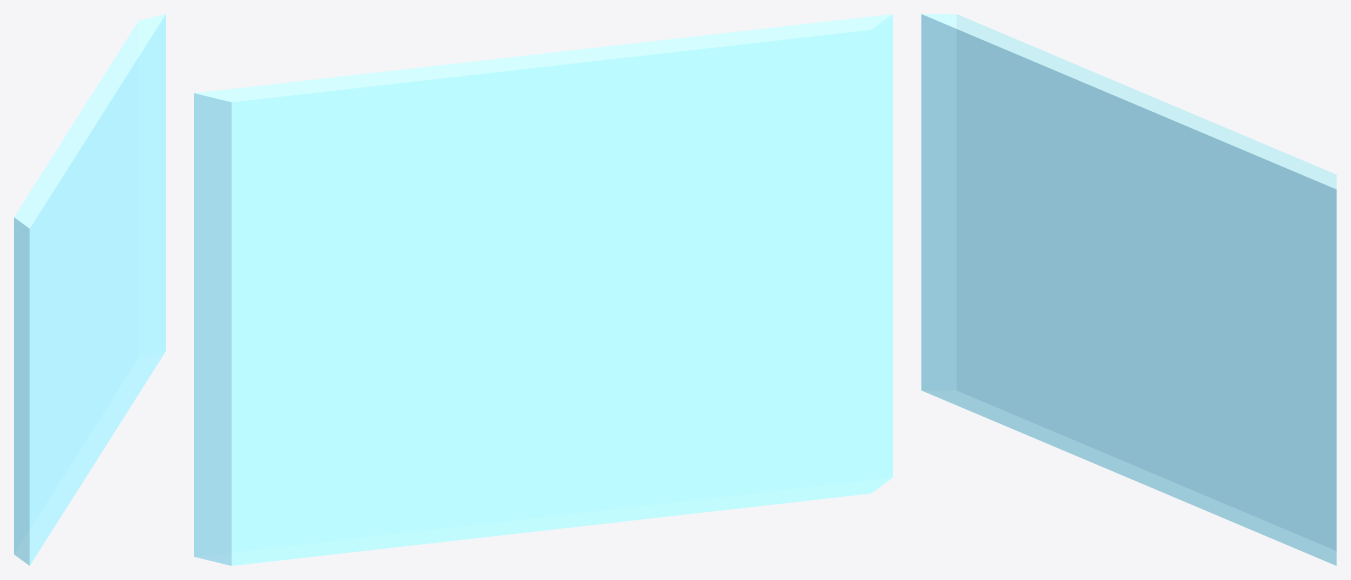
3 views of the same model, side by side, from view 1: azimuth 30°, elevation 25°; view 2: azimuth 150°, elevation 25°; view 3: azimuth 270°, elevation 25° (orthographic). The views are drawn at different scales.
Visible parts, largest first — view 1: Part_Glass; view 2: Part_Glass; view 3: Part_Glass.
Boxes of the visible parts, x1,y1,x2,y2 form: Part_Glass: (14, 14, 165, 565); Part_Glass: (194, 14, 892, 565); Part_Glass: (921, 14, 1336, 565).
Size of the model in its own units: 1 by 1 by 1.
